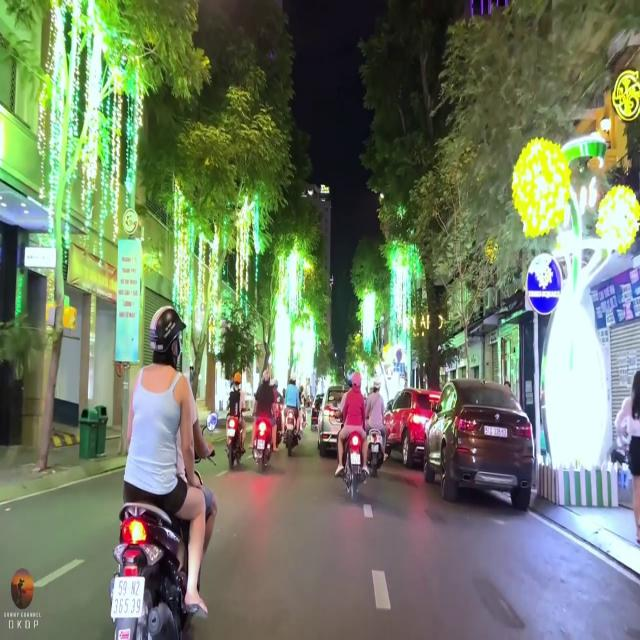bien_trang: (110, 576, 143, 621)
